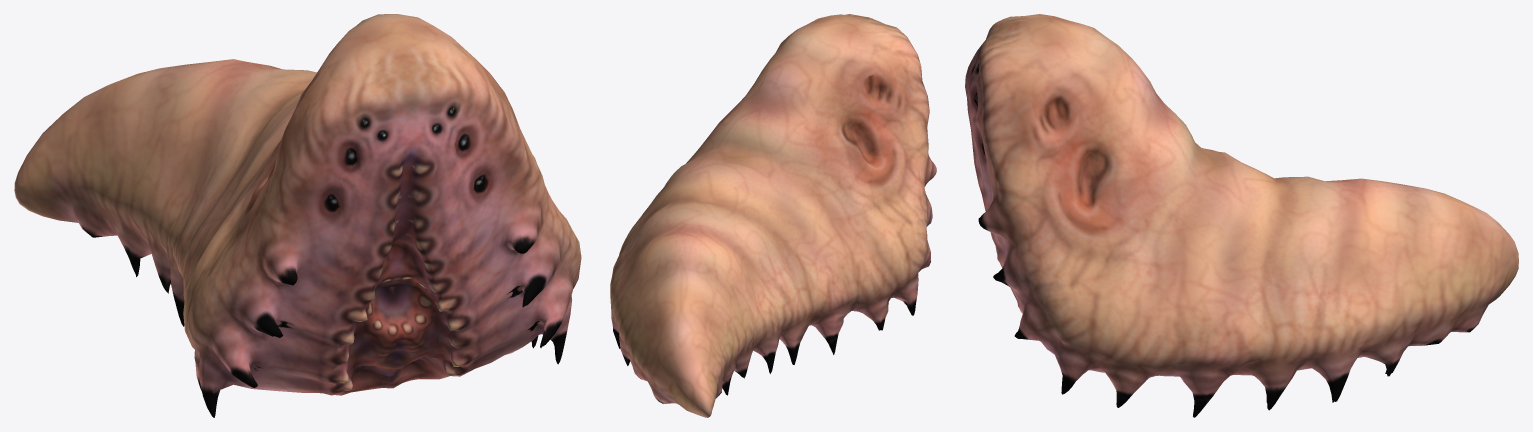
File: larva.fbx
3 renders of one model, left to right at view 1: azimuth 30°, elevation 25°; view 2: azimuth 150°, elevation 25°; view 3: azimuth 270°, elevation 25°, orthographic. The views are drawn at different scales.
Parts seen in each view (by area): view 1: Group49586; view 2: Group49586; view 3: Group49586.
Boxes of the visible parts, x1,y1,x2,y2 form: Group49586: (14,14,581,417); Group49586: (610,14,936,417); Group49586: (965,14,1518,417).
Size of the model in its own units: 52.83 by 54.86 by 84.59.
